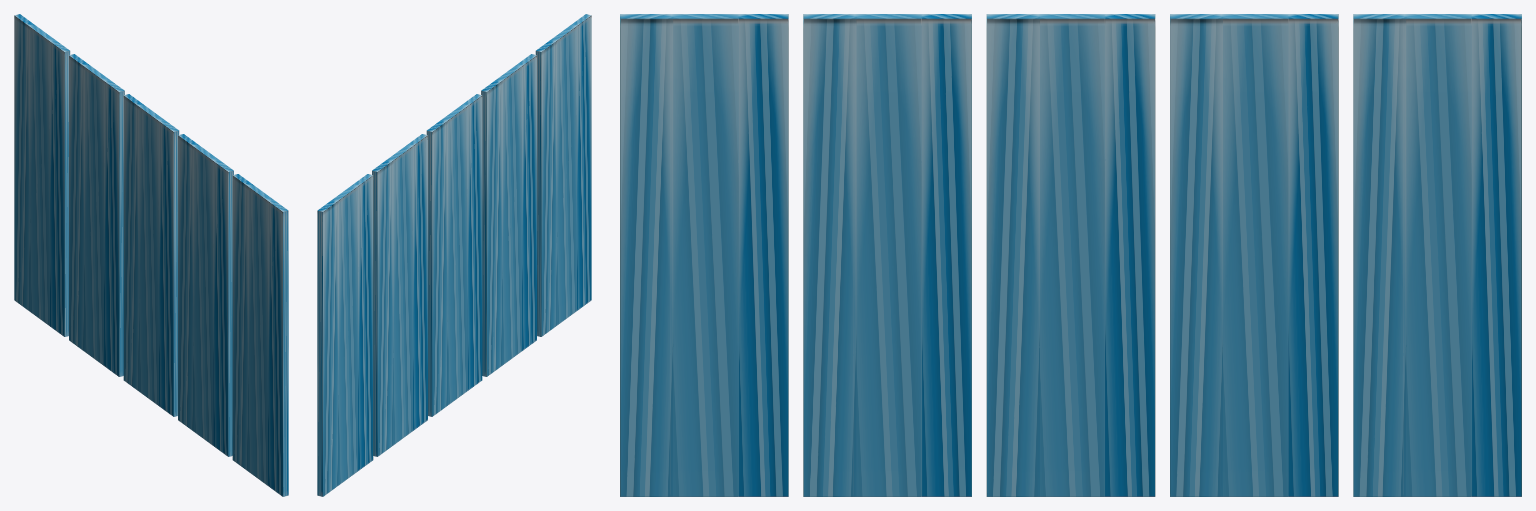
The picture shows the model from 3 angles, left to right: view 1: azimuth 30°, elevation 25°; view 2: azimuth 150°, elevation 25°; view 3: azimuth 270°, elevation 25°; orthographic projection. The views are drawn at different scales.
Visible parts, largest first — view 1: Window_glass_Cube.037; view 2: Window_glass_Cube.037; view 3: Window_glass_Cube.037.
Boxes of the visible parts, x1=… form: Window_glass_Cube.037: x1=14, y1=14, x2=288, y2=496; Window_glass_Cube.037: x1=317, y1=14, x2=591, y2=496; Window_glass_Cube.037: x1=620, y1=14, x2=1521, y2=496.
Bounding box in the file's own units: 0.3164 × 15.19 × 25.94.
Materials: 1 (1 with a texture image).
